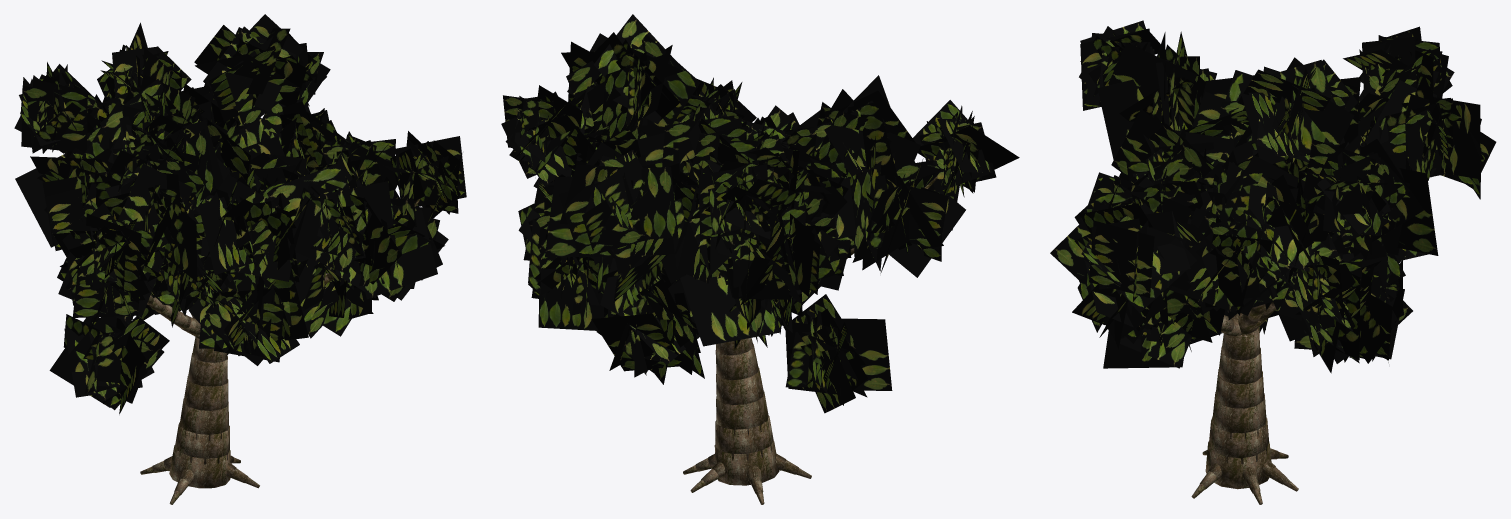
The model's file is giant_5.glb.
The picture shows the model from 3 angles, left to right: view 1: azimuth 30°, elevation 25°; view 2: azimuth 150°, elevation 25°; view 3: azimuth 270°, elevation 25°; orthographic projection. The views are drawn at different scales.
Parts seen in each view (by area): view 1: giant; view 2: giant; view 3: giant.
Part boxes in pixels (x1=…): giant: x1=14, y1=14, x2=466, y2=504; giant: x1=501, y1=14, x2=1019, y2=504; giant: x1=1050, y1=20, x2=1496, y2=504.
Bounding box in the file's own units: 19.35 × 19.03 × 16.72.
2 materials, 2 textured.
